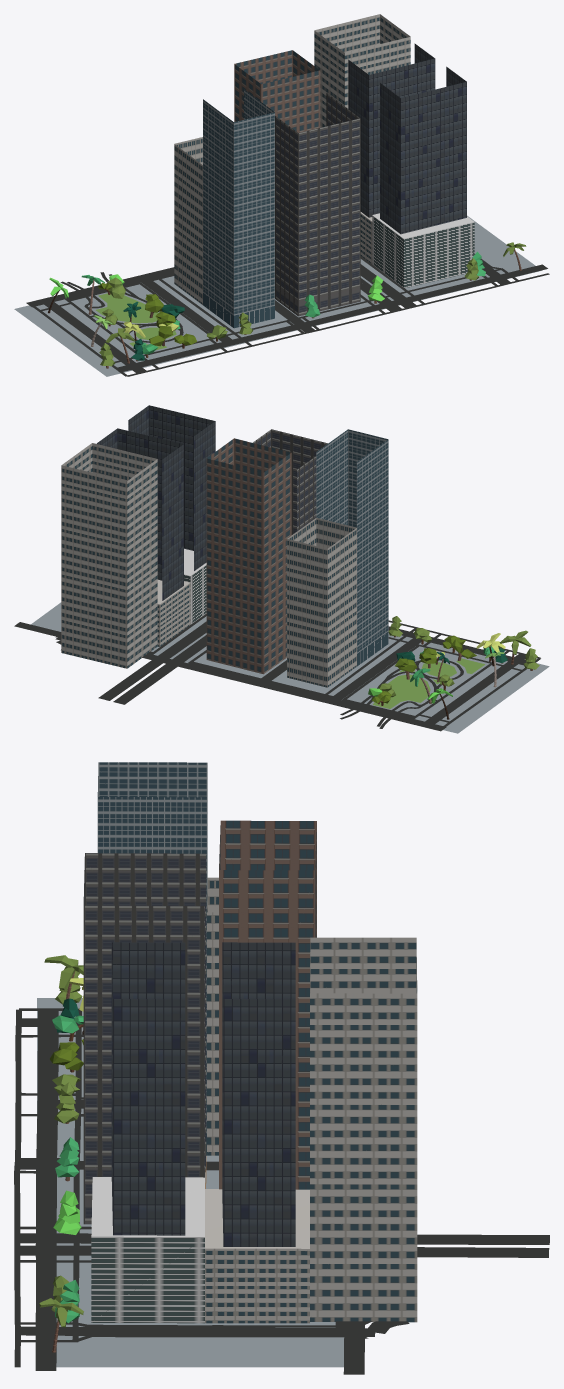
The model's file is BC_Env3.fbx.
3 views of the same model, one above another, from view 1: azimuth 30°, elevation 25°; view 2: azimuth 150°, elevation 25°; view 3: azimuth 270°, elevation 25° (orthographic). The views are drawn at different scales.
Parts seen in each view (by area): view 1: BC_Env3; view 2: BC_Env3; view 3: BC_Env3.
Boxes of the visible parts, <box> form: BC_Env3: <box>14,14,549,376</box>; BC_Env3: <box>14,405,549,733</box>; BC_Env3: <box>14,762,549,1374</box>.
Bounding box in the file's own units: 8187 × 3678 × 4906.
